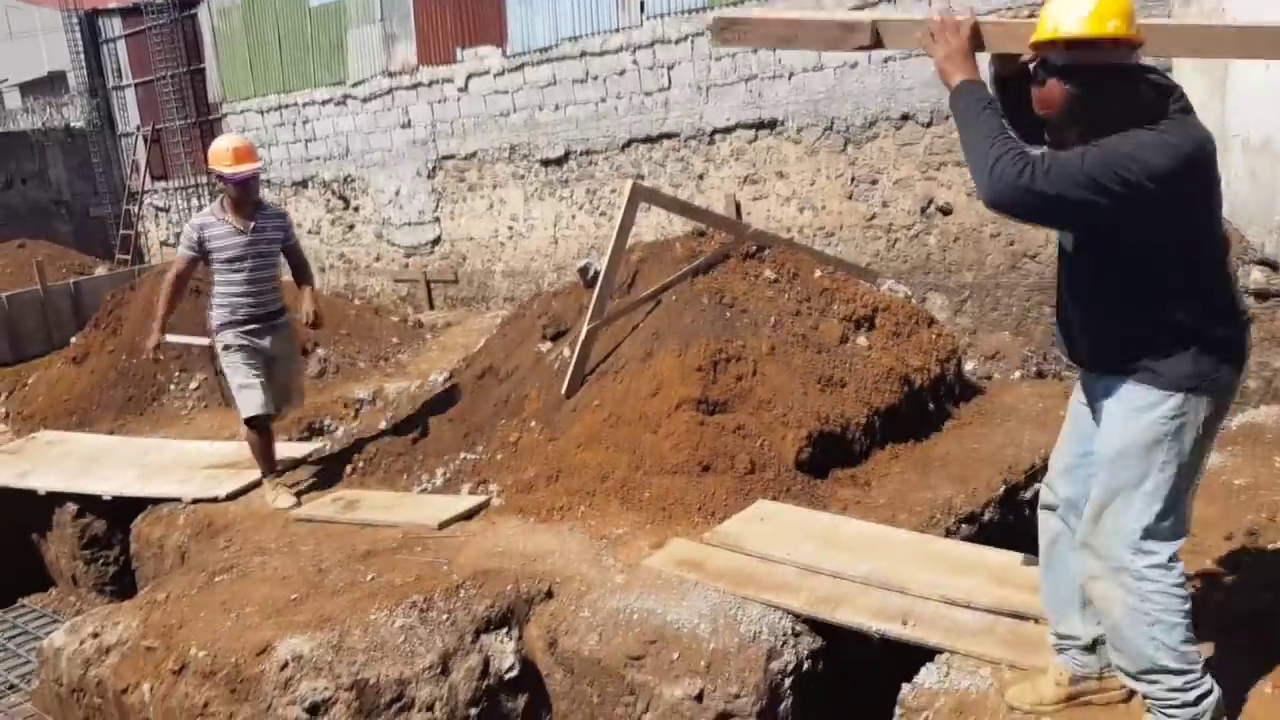helmet: (1024, 1, 1148, 52), (201, 131, 265, 178)
helmet-on: (1024, 0, 1158, 114), (200, 133, 263, 216)
person: (929, 0, 1267, 720), (159, 120, 323, 508)
